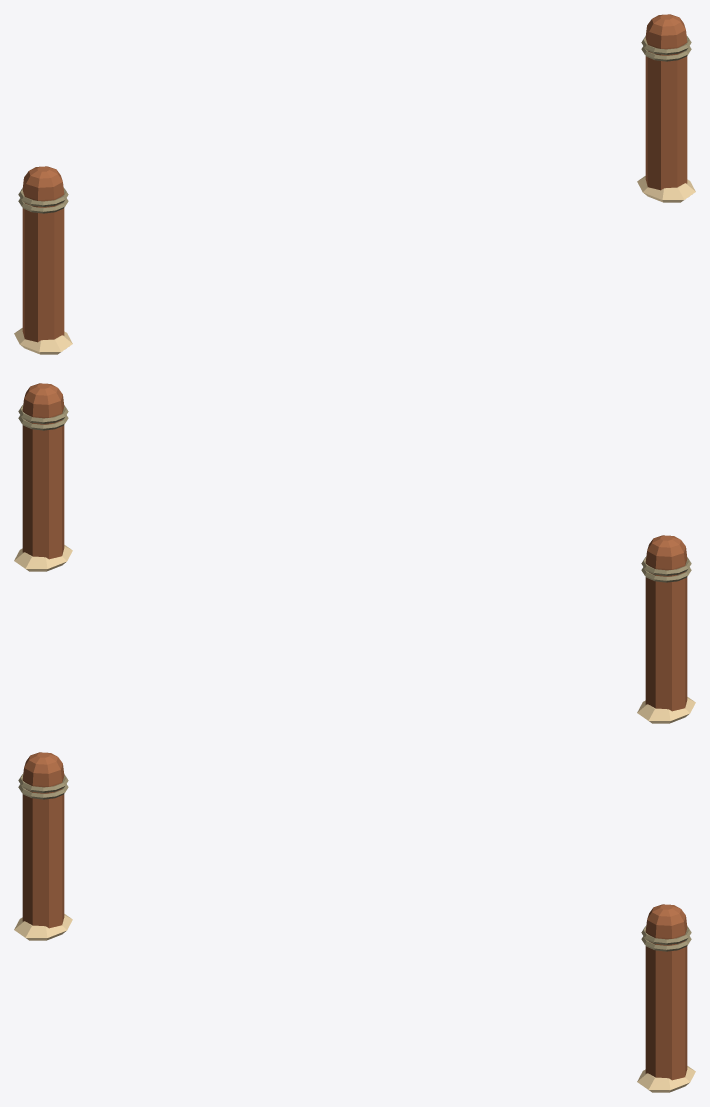
The model's file is bridgeEnd.glb.
The picture shows the model from 3 angles, top to bottom: view 1: azimuth 30°, elevation 25°; view 2: azimuth 150°, elevation 25°; view 3: azimuth 330°, elevation 25°; orthographic projection.
Visible parts, largest first — view 1: bridgeEnd; view 2: bridgeEnd; view 3: bridgeEnd.
Part boxes in pixels (x1,y1,x2,y2): bridgeEnd: (14, 14, 695, 354); bridgeEnd: (14, 383, 695, 723); bridgeEnd: (14, 752, 695, 1092).
Bounding box in the file's own units: 5.38 × 1.34 × 0.5001.
1 material, 1 textured.
